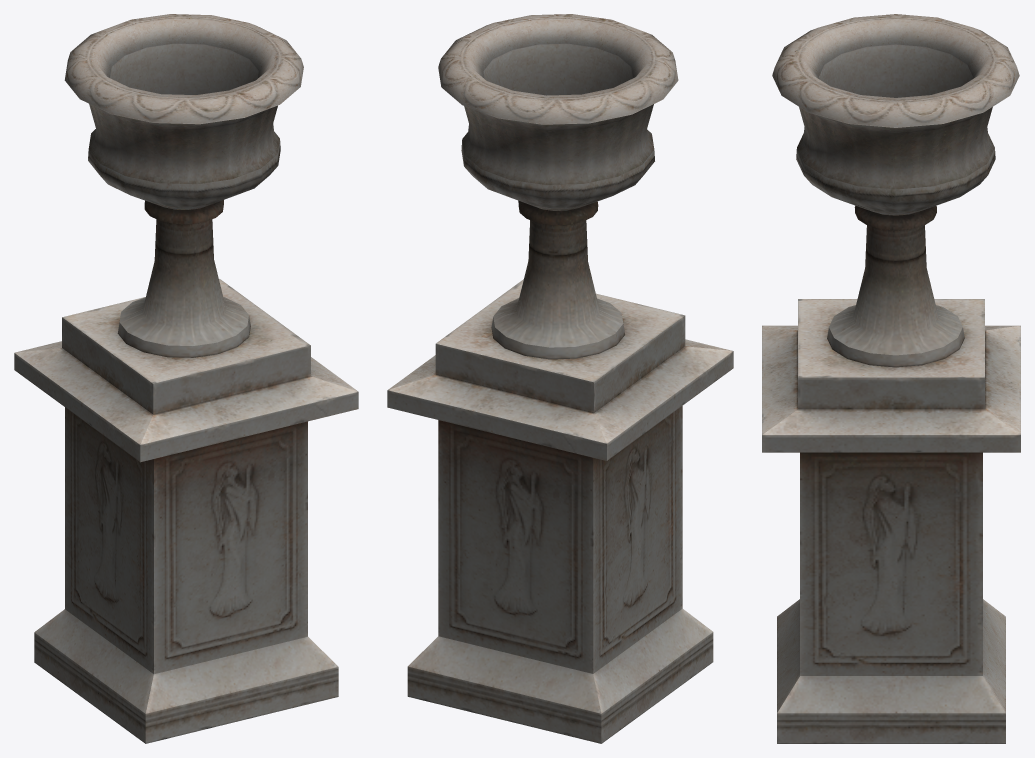
Rendered from marblePlanter_empty.dae.
3 renders of one model, left to right at view 1: azimuth 30°, elevation 25°; view 2: azimuth 150°, elevation 25°; view 3: azimuth 270°, elevation 25°, orthographic. The views are drawn at different scales.
Parts seen in each view (by area): view 1: marblePlanter; view 2: marblePlanter; view 3: marblePlanter.
Boxes of the visible parts, left/top/right/bottom form: marblePlanter: left=14, top=14, right=358, bottom=743; marblePlanter: left=387, top=14, right=733, bottom=743; marblePlanter: left=762, top=14, right=1020, bottom=743.
Size of what is drawn, in the model's own units: 0.4145 by 1.13 by 0.4145.
Materials: 1 (1 with a texture image).
